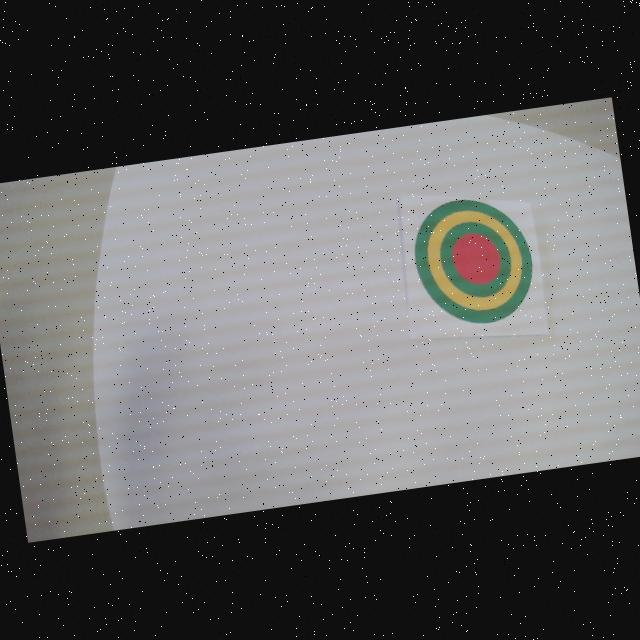COGNITIVE: (406, 190, 540, 334)
